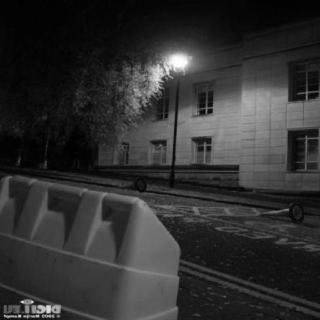other: (159, 49, 197, 85)
